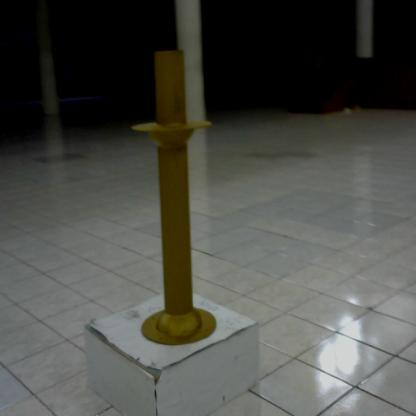pole: (126, 40, 225, 359)
